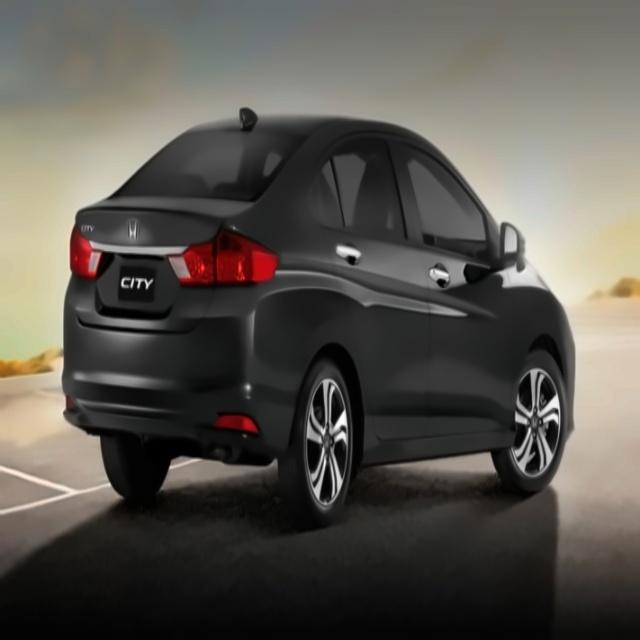Car boot: (68, 193, 247, 342)
Driver-s door - -F-R-: (391, 120, 510, 470)
Fender - -F-R-: (504, 234, 579, 424)
Fender - -R-R-: (268, 113, 339, 439)
Front bumper: (55, 285, 298, 471)
Passenger-s door - -R-R-: (300, 92, 437, 481)
Rear light - -L-: (63, 220, 116, 283)
Rear light - -R-: (165, 220, 281, 291)
Side bumper - -R-: (362, 401, 522, 491)
Side mirror - -R-: (488, 209, 523, 283)
